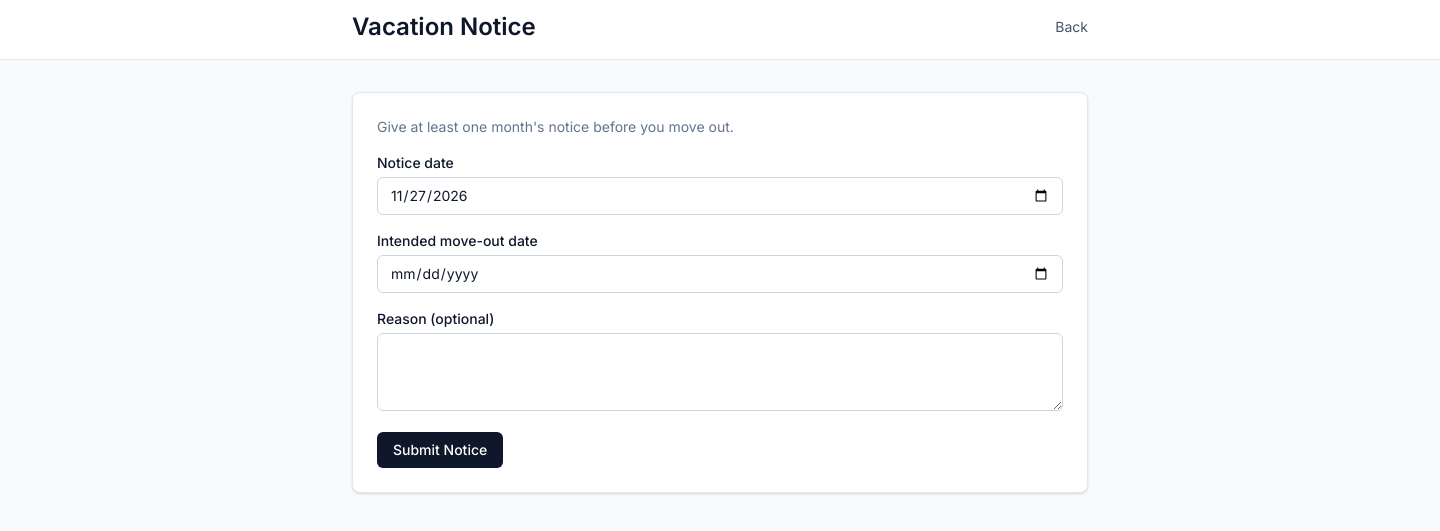
Test: SubmitNoticeForm › rejects a move-out date less than 30 days out and skips submission
Type "2026-01-01" into the date field labelled "Notice date".
click(720, 196); type("2026-01-01")  # box 377,177 -> 1063,215
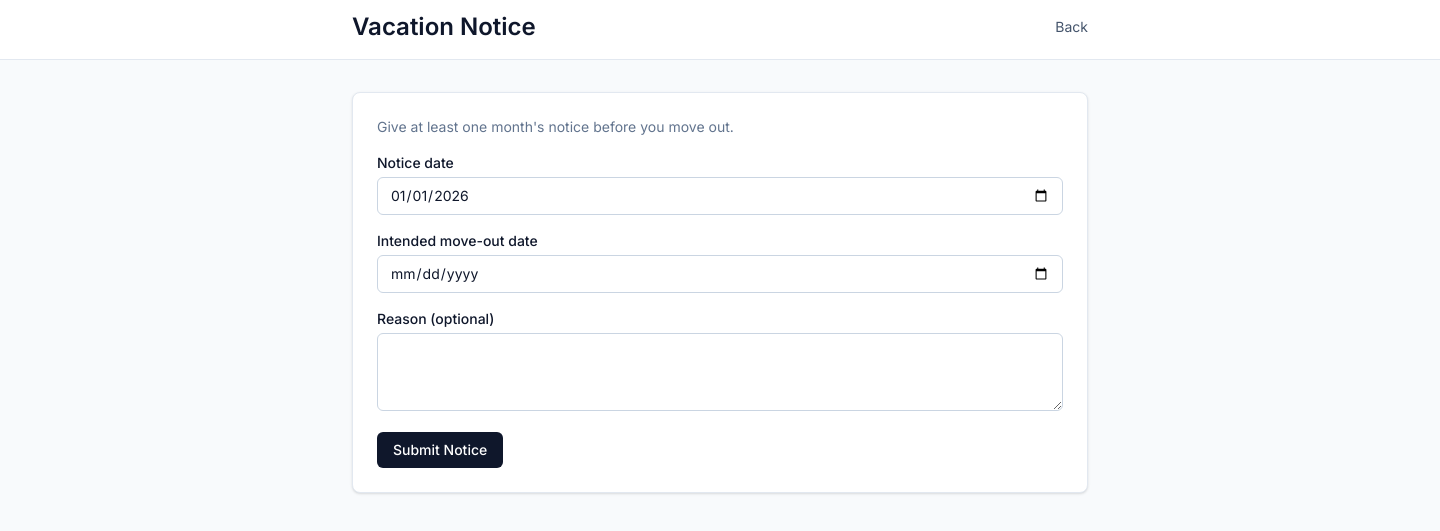
Type "2026-01-11" into the date field labelled "Intended move-out date".
click(720, 274); type("2026-01-11")  # box 377,255 -> 1063,293
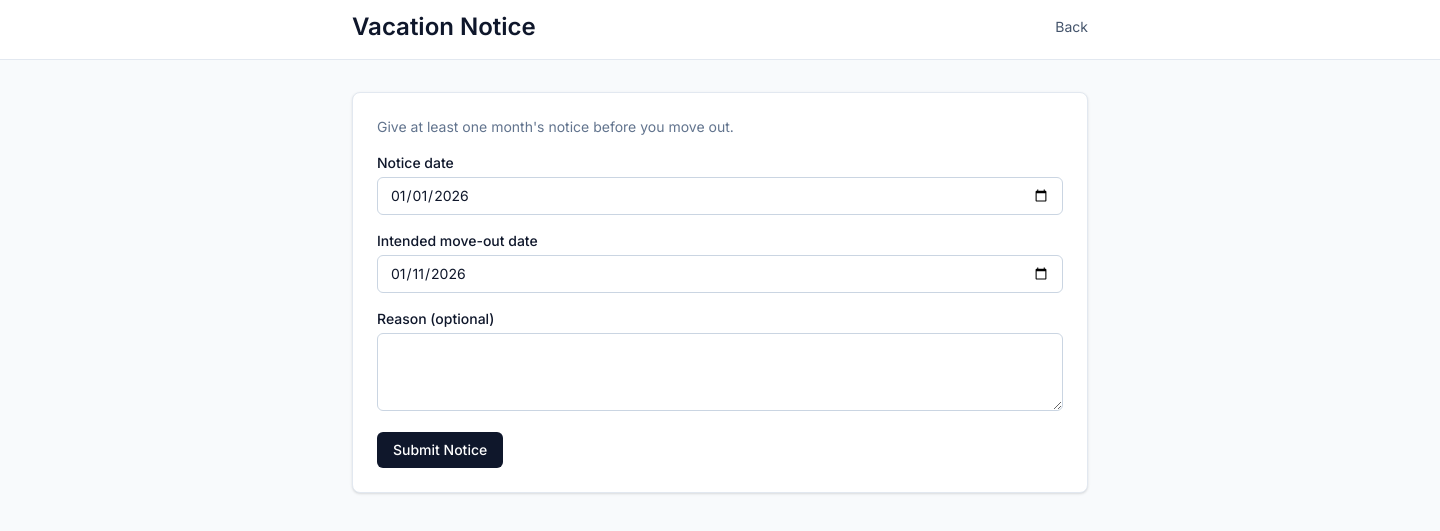
Click the button "Submit Notice".
click(440, 450)  # box 377,432 -> 503,468
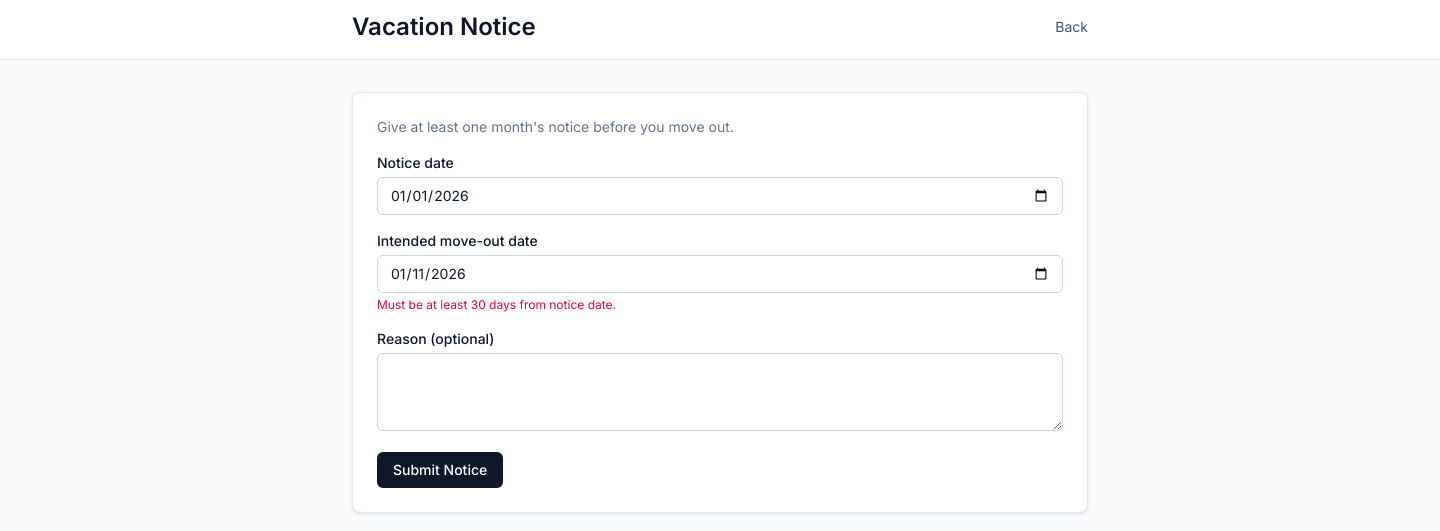
Expected: the text "Must be at least 30 days from notice date." is shown, 377,297 -> 616,312
